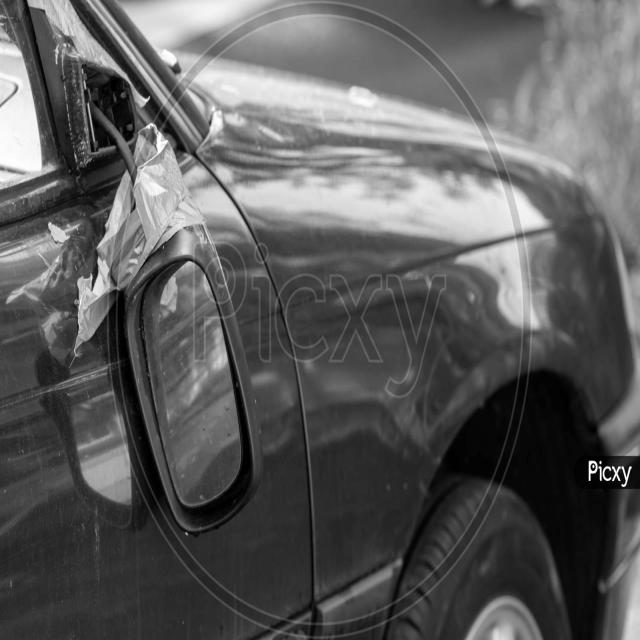crack: (57, 51, 260, 531)
